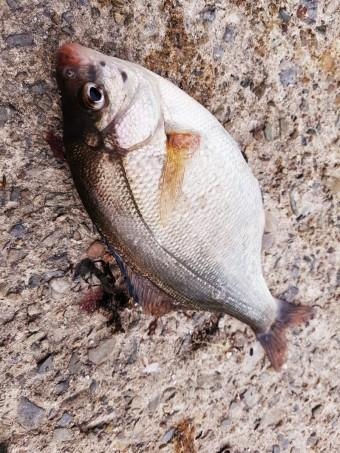fish: (54, 43, 314, 368)
